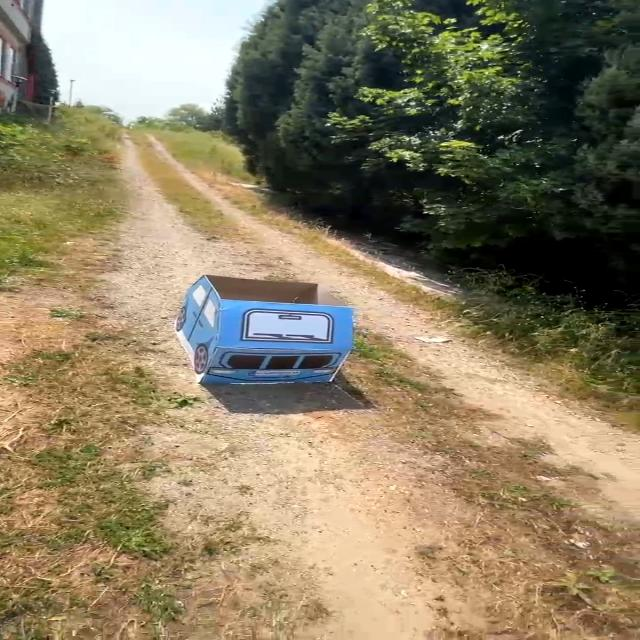blue_car: (117, 253, 381, 404)
